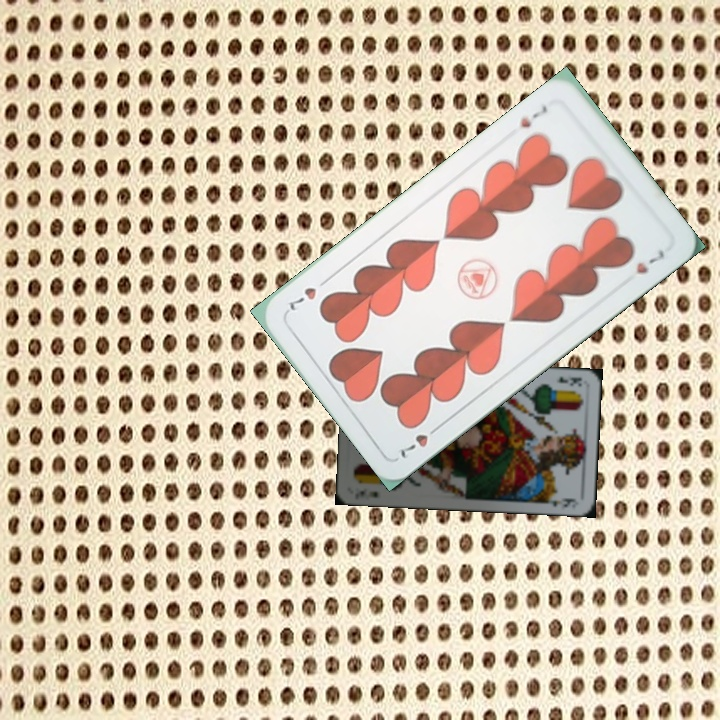EK: (552, 372, 585, 390), (351, 487, 381, 501)
H7: (396, 420, 445, 461), (516, 101, 550, 131)
